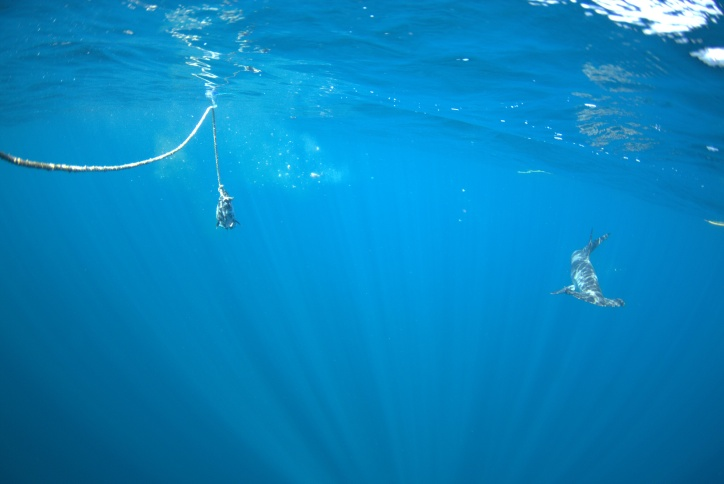Hammer: (525, 215, 643, 320)
